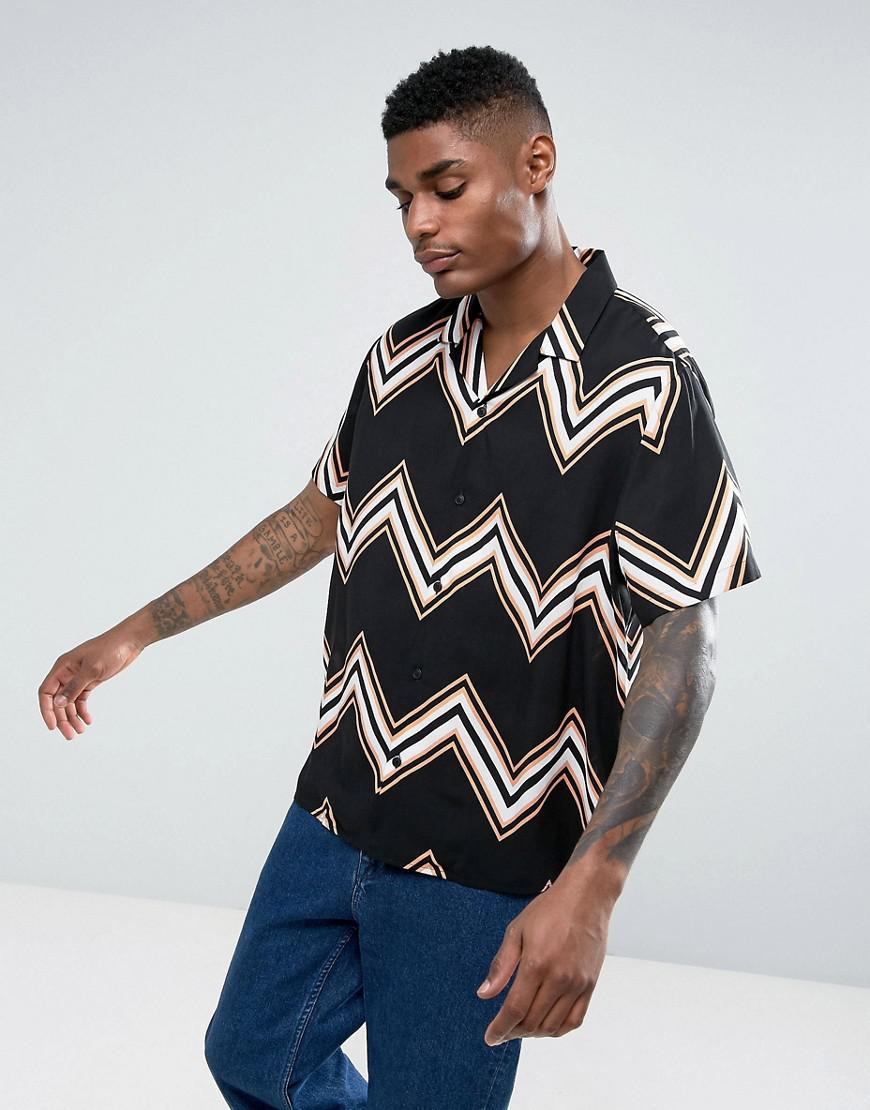teeshirt: (303, 237, 766, 918)
